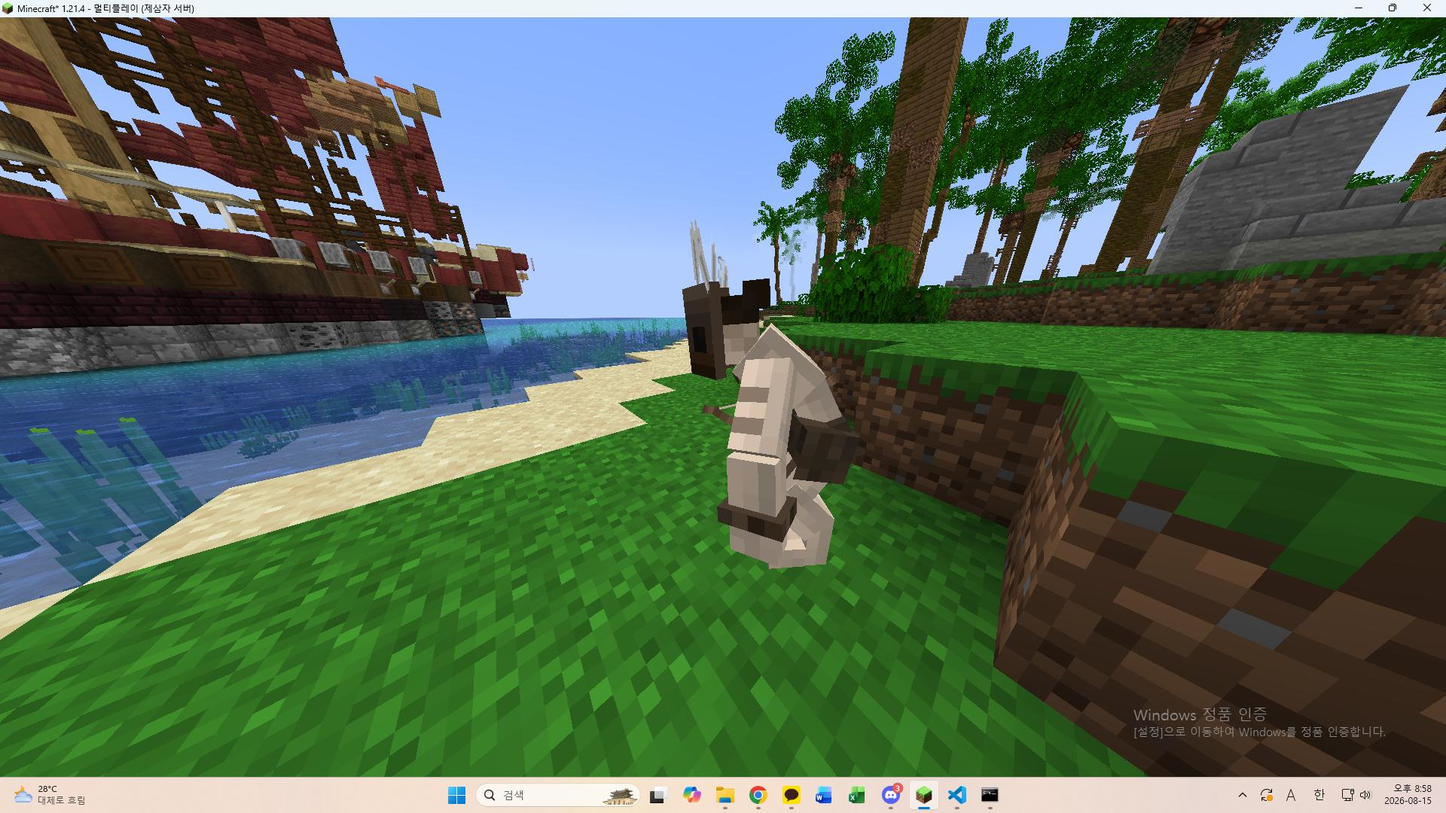bow_indian: (621, 209, 921, 613)
